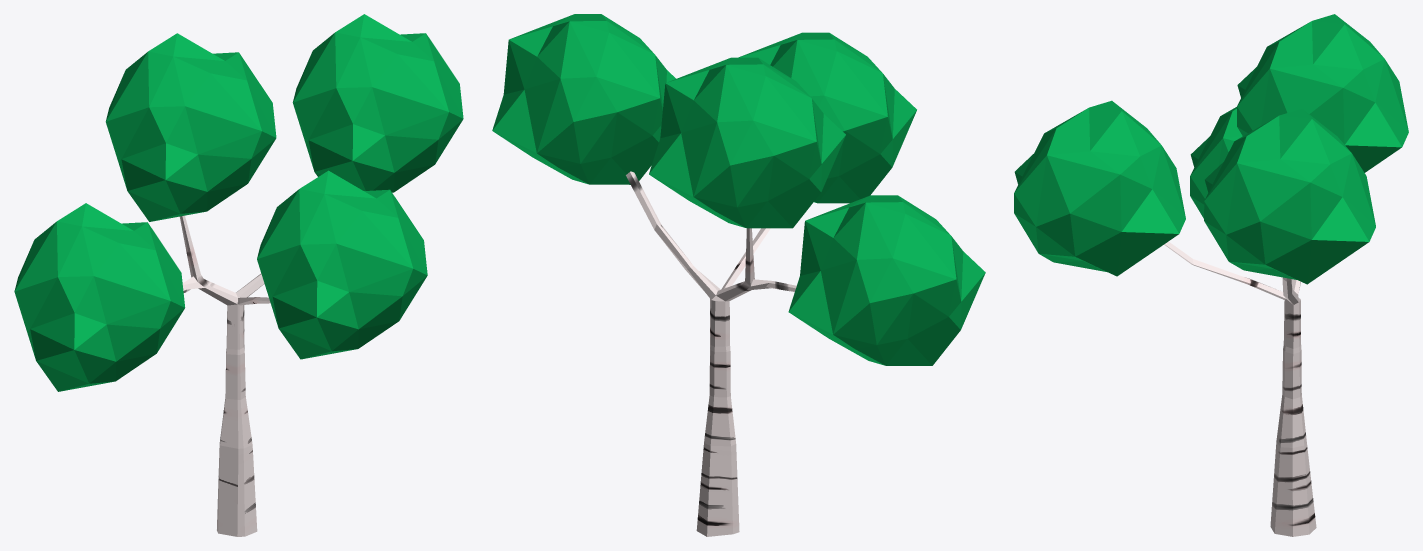
Rendered from Birch_1.fbx.
The picture shows the model from 3 angles, left to right: view 1: azimuth 30°, elevation 25°; view 2: azimuth 150°, elevation 25°; view 3: azimuth 270°, elevation 25°; orthographic projection.
Parts seen in each view (by area): view 1: Birch 1_LOD0; view 2: Birch 1_LOD0; view 3: Birch 1_LOD0.
Boxes of the visible parts, bbox=[...] form: Birch 1_LOD0: bbox=[14, 14, 463, 536]; Birch 1_LOD0: bbox=[492, 14, 985, 536]; Birch 1_LOD0: bbox=[1014, 14, 1408, 536].
Size of what is drawn, in the model's own units: 578 by 614 by 451.
